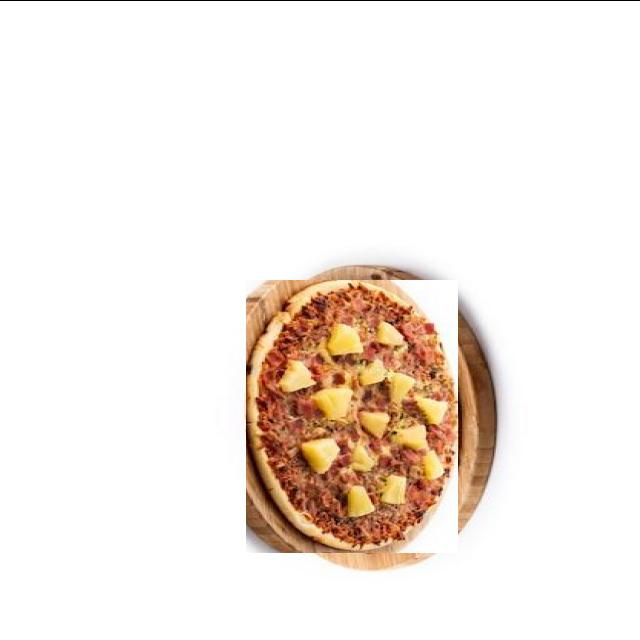olive: (266, 452, 276, 462)
pizza: (246, 279, 458, 552)
